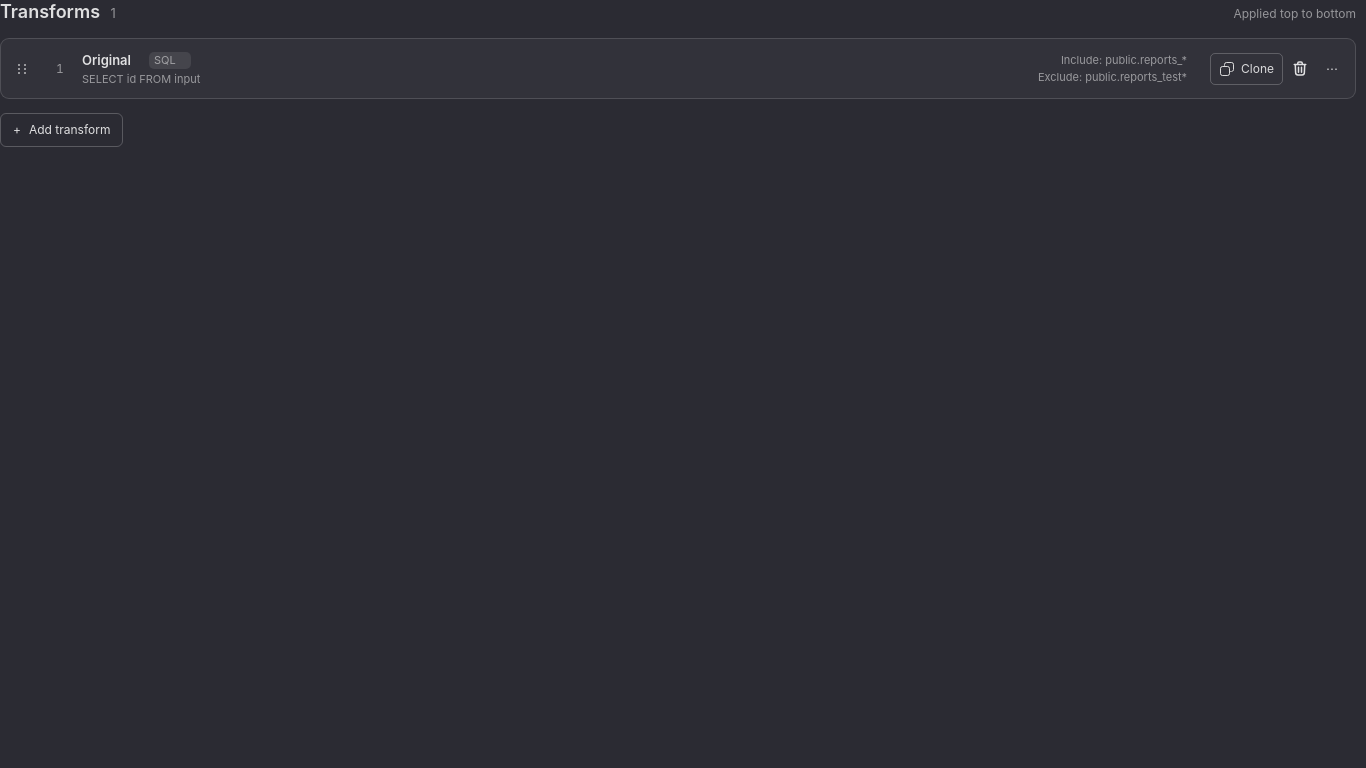
ordered transform strips › discards a draft name on outside
Click the button named "Actions for transform 1".
click(1332, 69)  # box 1317,53 -> 1347,85
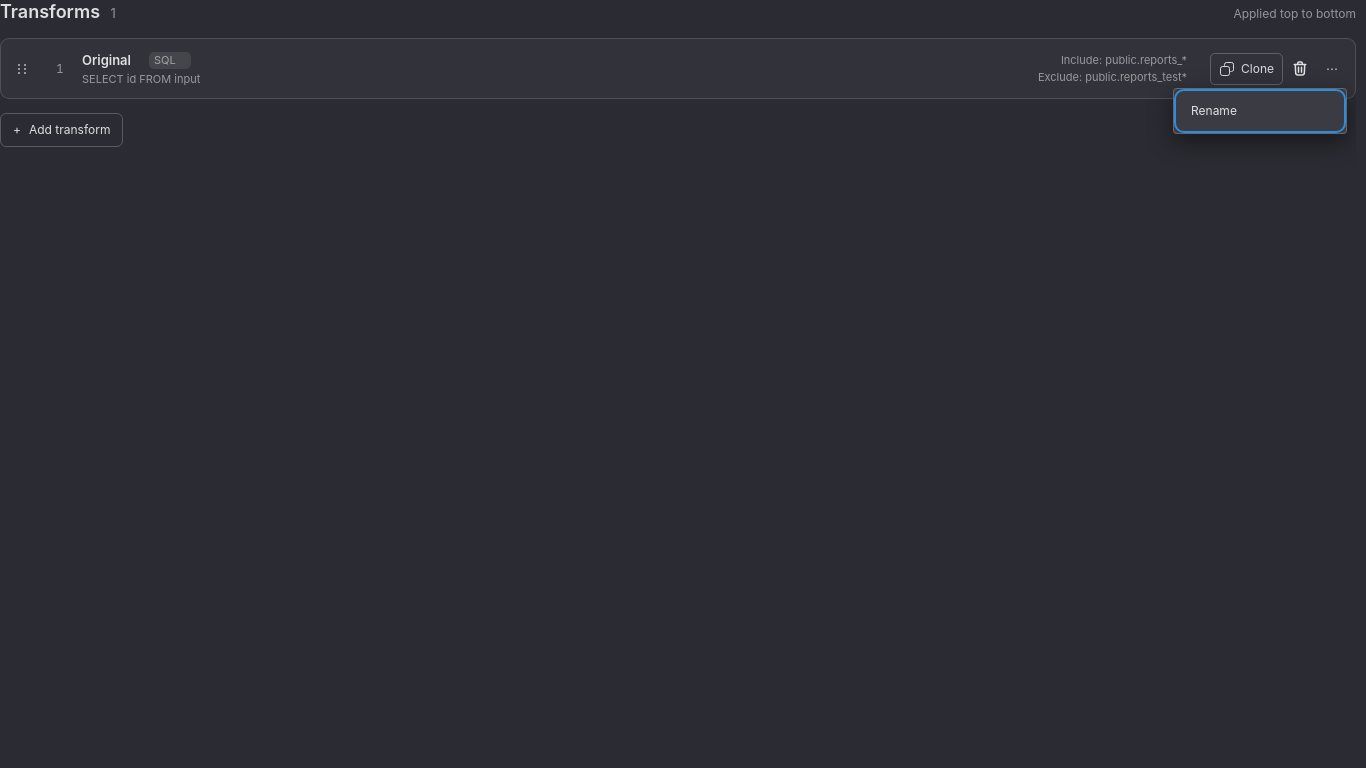
Click the menu item "Rename".
click(1260, 111)  # box 1178,93 -> 1342,129
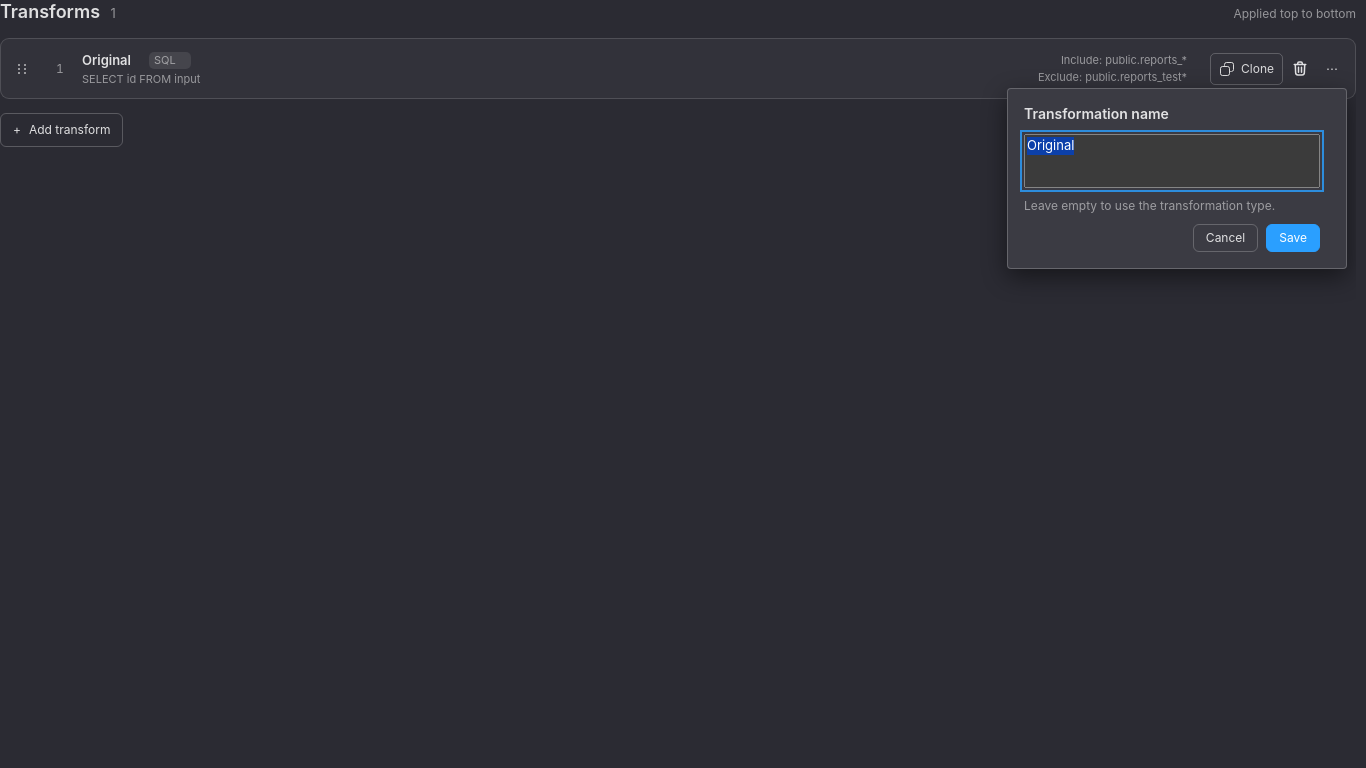
Replace the text in the text box labelled "Transformation name" with "Unsaved" at [1172, 161], box 1024,134 -> 1320,188
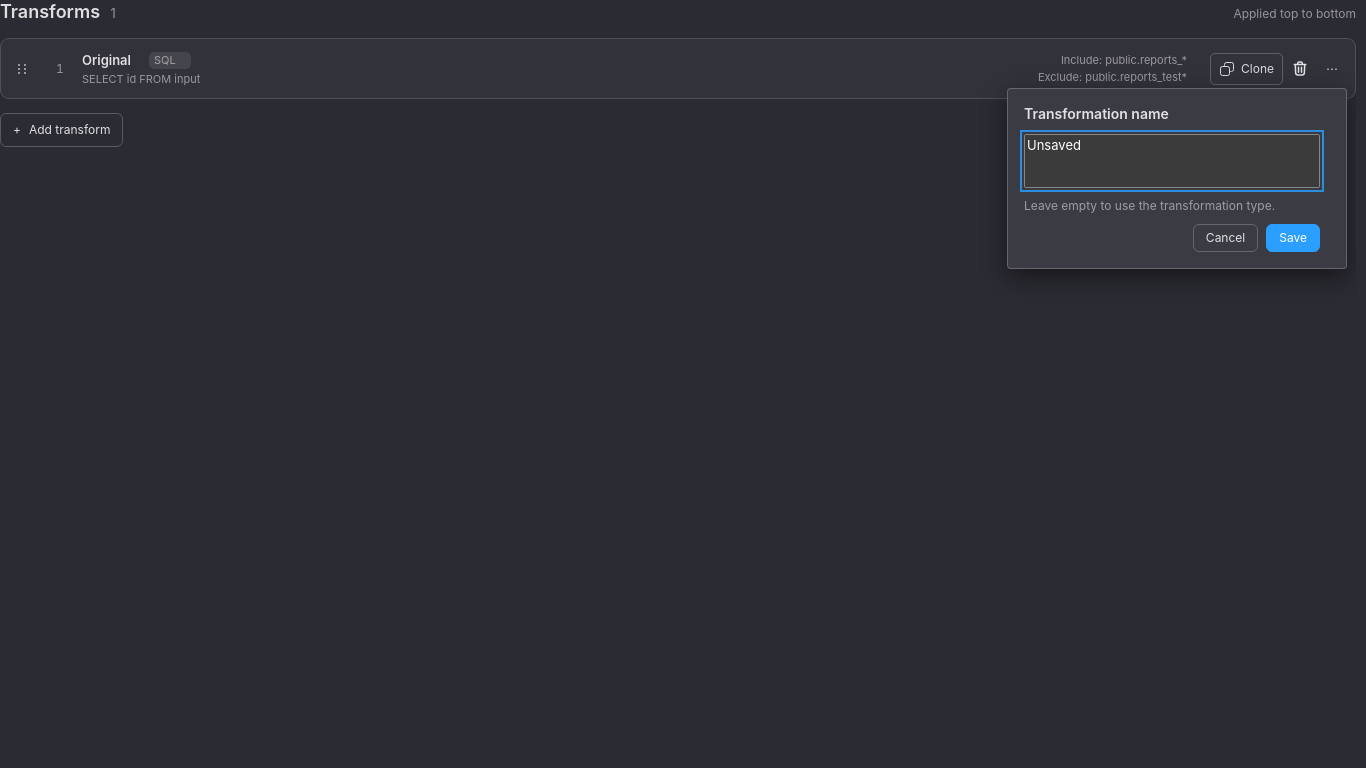
Press the mouse on the element that starts with "Transforms" at [678, 74], box 0,0 -> 1356,147
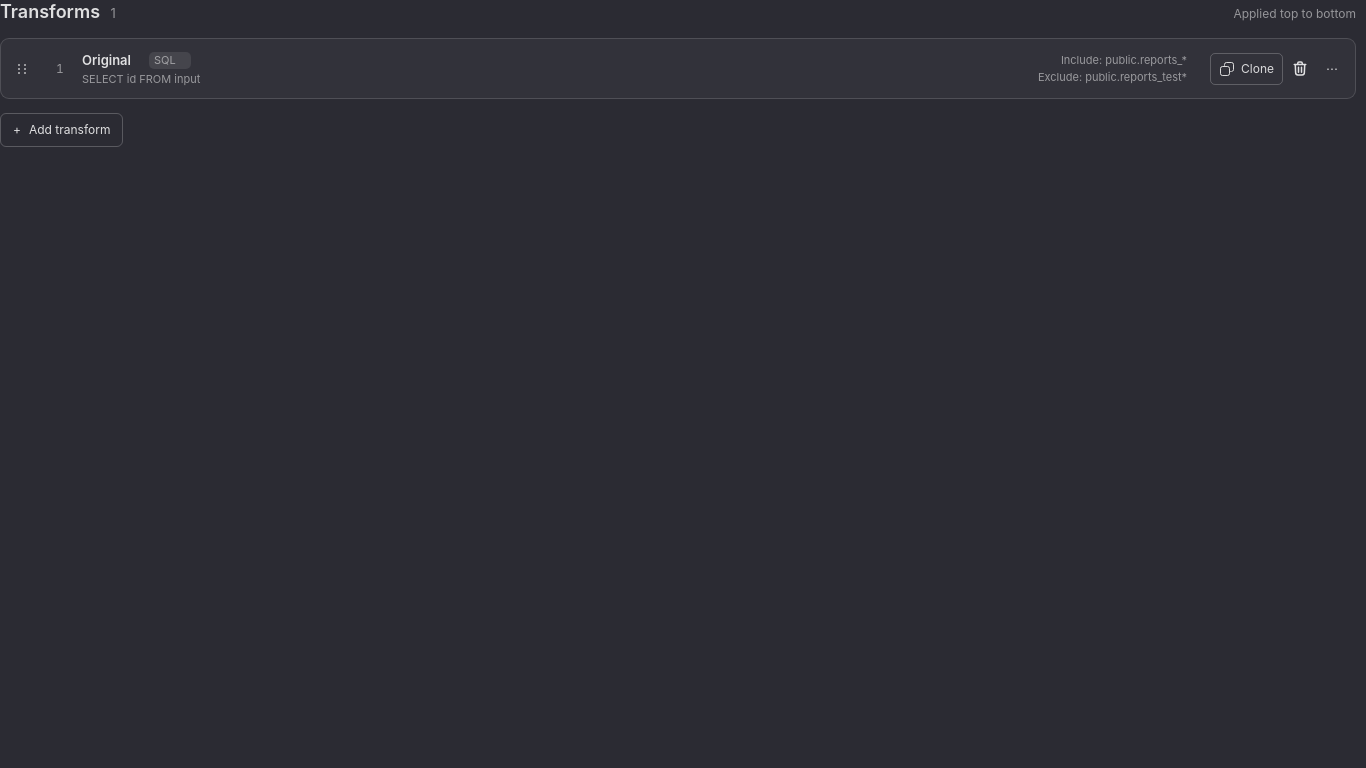
Expected: the dialog is gone
